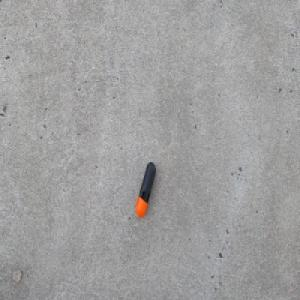PlasticPart: (135, 161, 156, 218)
